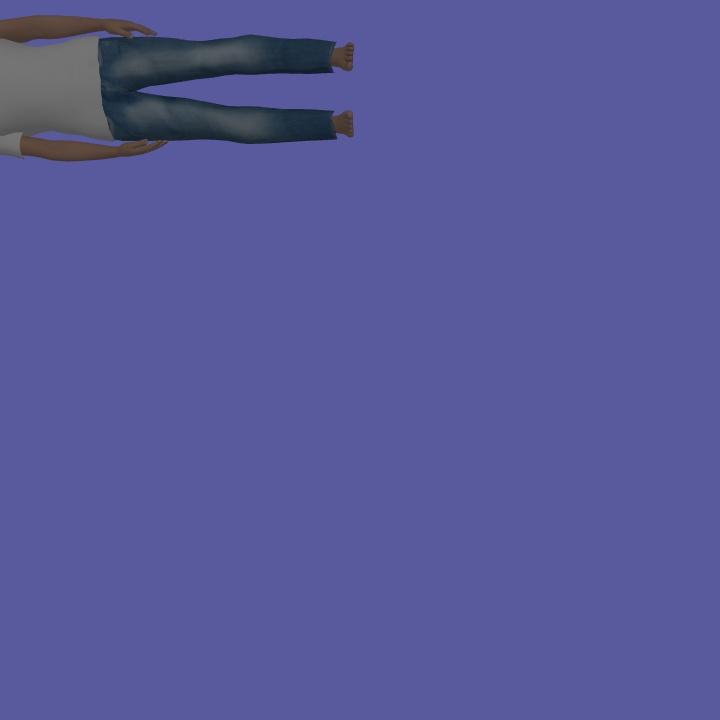victim: (1, 13, 360, 163)
